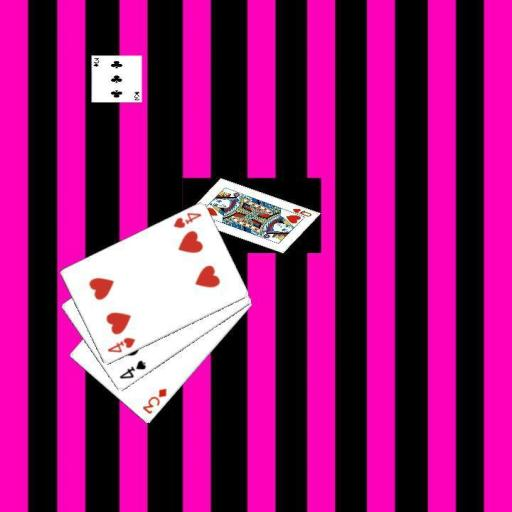card-corner: (140, 385, 168, 416), (116, 358, 147, 380), (104, 334, 136, 355), (170, 210, 203, 230)
